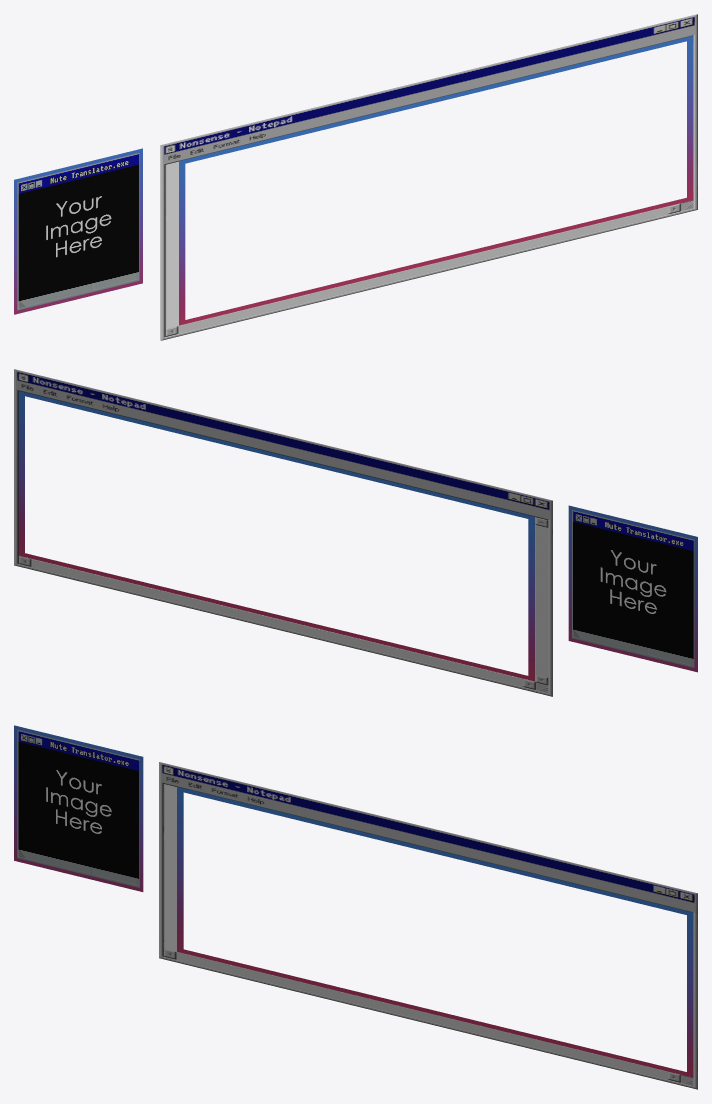
File: Notepad FBX.fbx
3 views of the same model, one above another, from view 1: azimuth 30°, elevation 25°; view 2: azimuth 150°, elevation 25°; view 3: azimuth 330°, elevation 25° (orthographic).
Visible parts, largest first — view 1: Windows Notepad; view 2: Windows Notepad; view 3: Windows Notepad.
Part boxes in pixels (x1,y1,x2,y2): Windows Notepad: (14,14,697,340); Windows Notepad: (14,369,697,696); Windows Notepad: (14,725,697,1089).
Bounding box in the file's own units: 82.98 × 22.73 × 0.2673.
